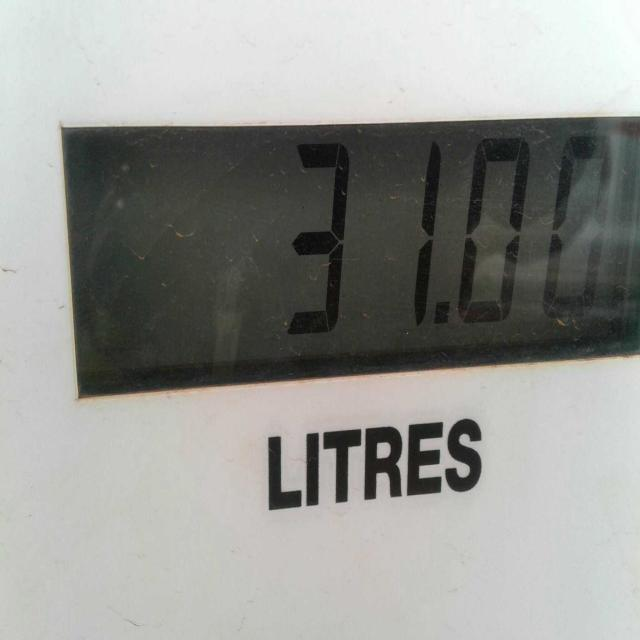.: (429, 284, 454, 339)
0: (542, 115, 622, 351), (460, 137, 539, 354)
1: (391, 122, 444, 343)
3: (267, 129, 363, 357)
